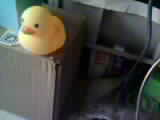duck: (14, 1, 67, 53)
